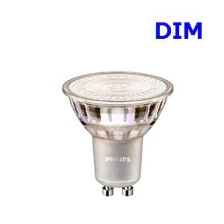light_bulb: (59, 65, 179, 199)
